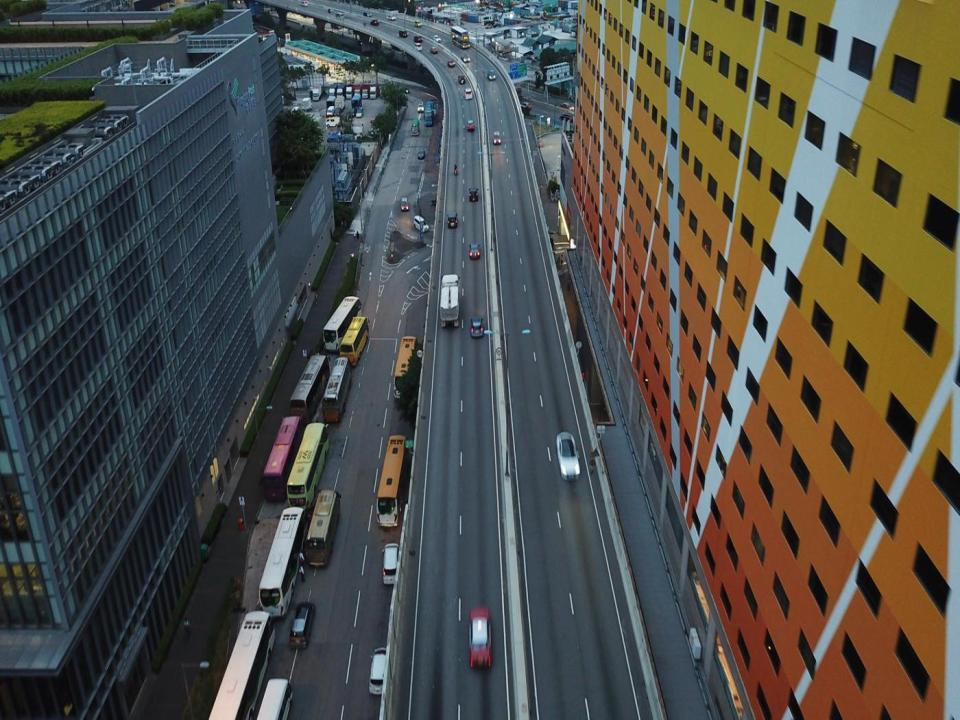bus: (202, 613, 277, 719), (256, 503, 304, 620), (284, 421, 332, 506), (372, 432, 407, 526), (263, 415, 300, 502), (291, 349, 331, 423), (304, 492, 341, 567), (323, 296, 365, 349), (321, 356, 352, 419), (392, 335, 418, 402), (257, 676, 295, 719), (340, 317, 372, 368), (449, 24, 469, 49), (424, 100, 436, 128), (409, 117, 421, 136)
car: (467, 606, 494, 671), (556, 430, 582, 485), (291, 600, 315, 651), (366, 645, 390, 694), (379, 540, 401, 588), (468, 313, 486, 340), (412, 214, 428, 236), (468, 241, 482, 262), (446, 211, 459, 228), (558, 110, 575, 123), (468, 185, 479, 204), (399, 194, 409, 214), (400, 82, 412, 96), (465, 118, 476, 133), (492, 130, 502, 146), (519, 100, 532, 112), (486, 68, 497, 80), (412, 42, 424, 53), (354, 108, 364, 119), (429, 46, 439, 56), (417, 147, 424, 160), (461, 54, 470, 64), (432, 34, 442, 43), (458, 72, 466, 83), (417, 102, 424, 114), (414, 35, 423, 44), (387, 13, 396, 21), (414, 20, 422, 28), (448, 58, 454, 68), (363, 10, 372, 16), (336, 109, 342, 115)
truck: (437, 272, 461, 329), (311, 84, 323, 100), (325, 116, 341, 127), (369, 83, 378, 100), (302, 96, 312, 111), (328, 82, 336, 99), (334, 98, 346, 108), (346, 83, 353, 99), (338, 84, 345, 97), (363, 84, 368, 99), (353, 84, 360, 94)
van: (463, 88, 473, 100), (398, 28, 408, 40), (370, 18, 379, 30), (335, 10, 345, 20), (299, 1, 309, 8), (326, 106, 333, 115)
